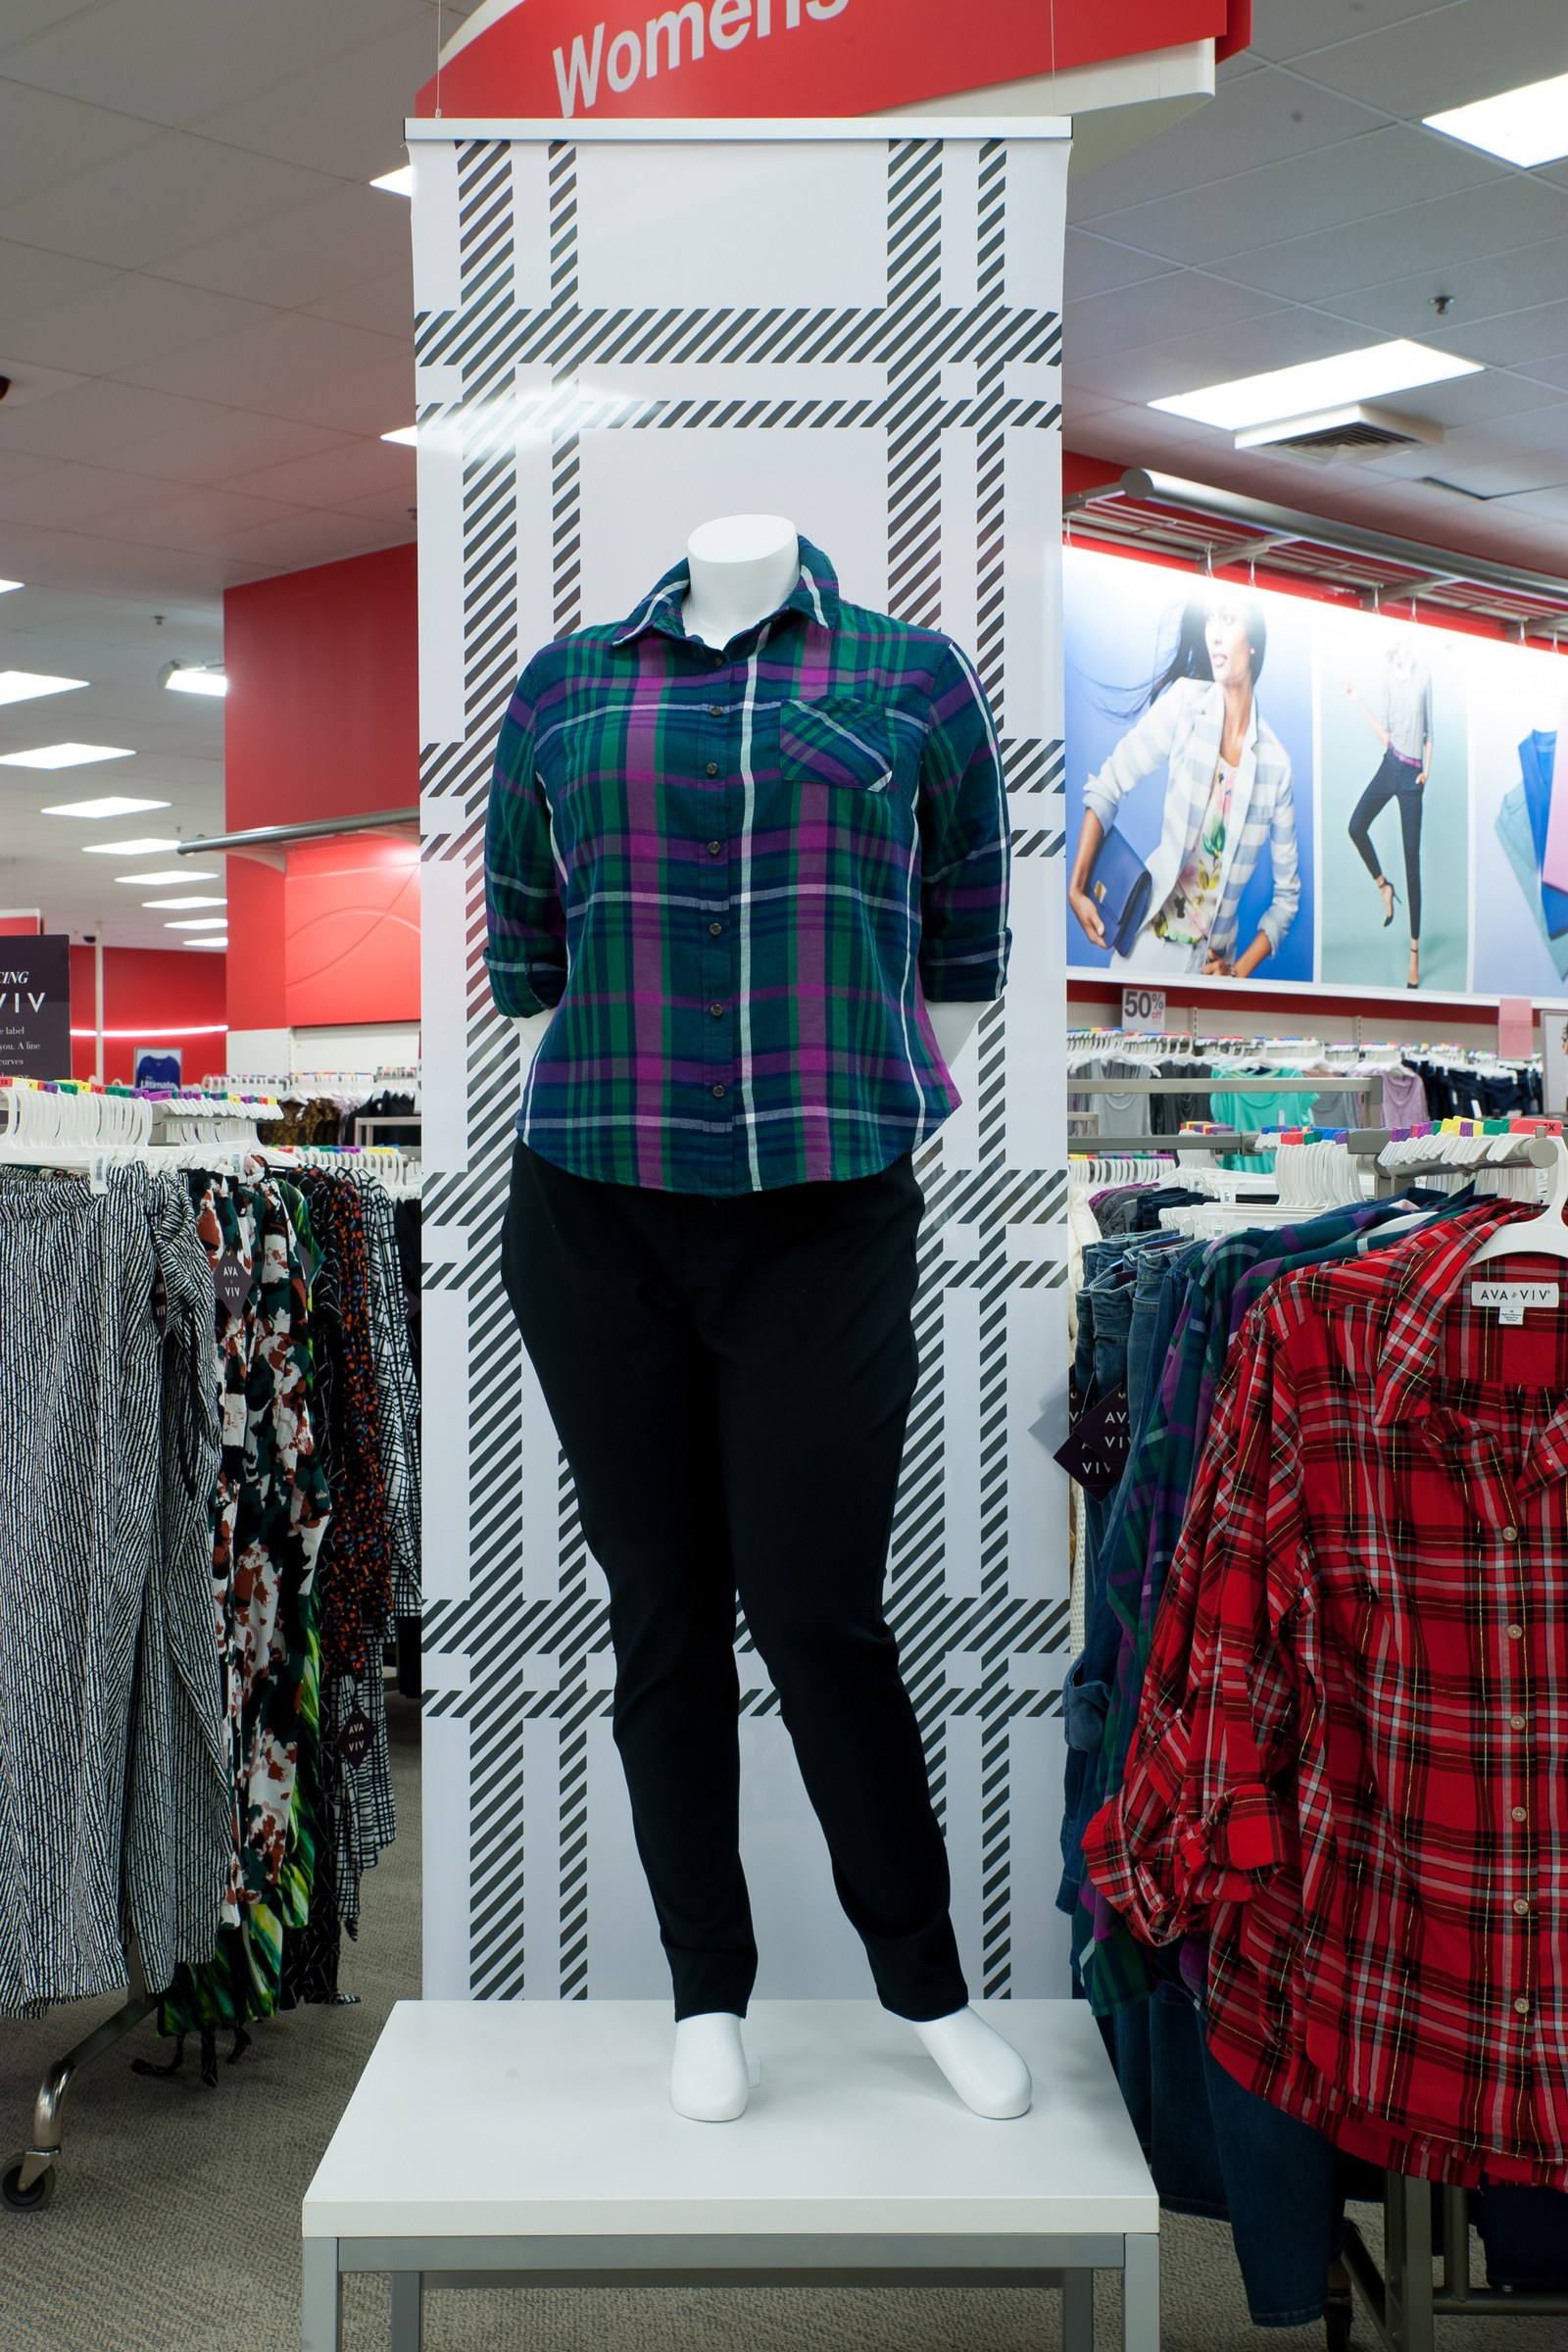person-like: (464, 496, 1083, 2131)
